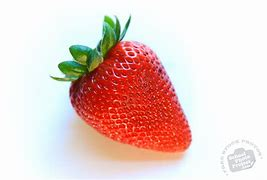Fresa: (68, 36, 193, 154)
